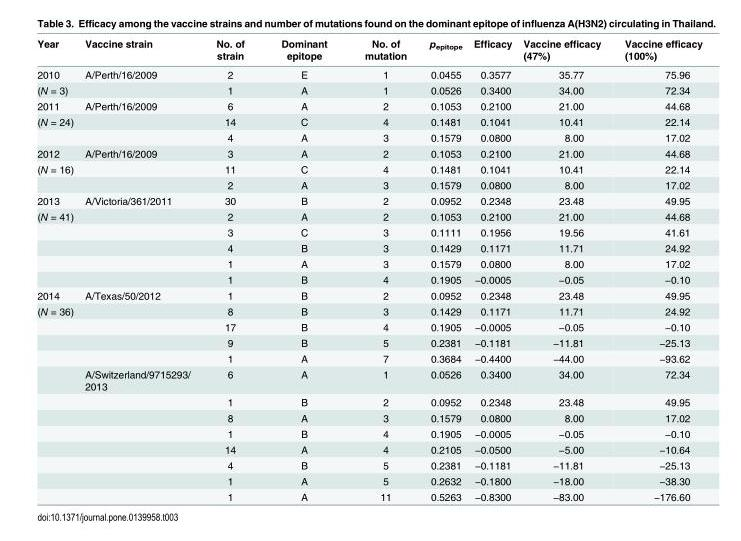table: (36, 36, 701, 502)
table column: (78, 36, 202, 502), (516, 36, 612, 502), (612, 36, 701, 502), (262, 36, 345, 502), (345, 36, 417, 502), (202, 36, 262, 502), (417, 36, 467, 502), (467, 36, 516, 502), (36, 36, 78, 502)
table column header: (36, 36, 701, 64)
table row: (36, 36, 701, 64), (36, 366, 701, 393), (36, 64, 701, 81), (36, 81, 701, 97), (36, 97, 701, 113), (36, 113, 701, 129), (36, 129, 701, 145), (36, 160, 701, 176), (36, 176, 701, 192), (36, 192, 701, 208), (36, 208, 701, 224), (36, 239, 701, 255), (36, 255, 701, 271), (36, 271, 701, 287), (36, 302, 701, 318), (36, 318, 701, 334), (36, 334, 701, 350), (36, 350, 701, 366), (36, 393, 701, 409), (36, 409, 701, 425), (36, 425, 701, 441), (36, 441, 701, 457), (36, 472, 701, 488), (36, 145, 701, 160), (36, 224, 701, 239), (36, 287, 701, 302), (36, 457, 701, 472), (36, 488, 701, 502)
table spanning cell: (36, 302, 78, 502), (36, 208, 78, 287), (36, 113, 78, 145), (36, 160, 78, 192)
